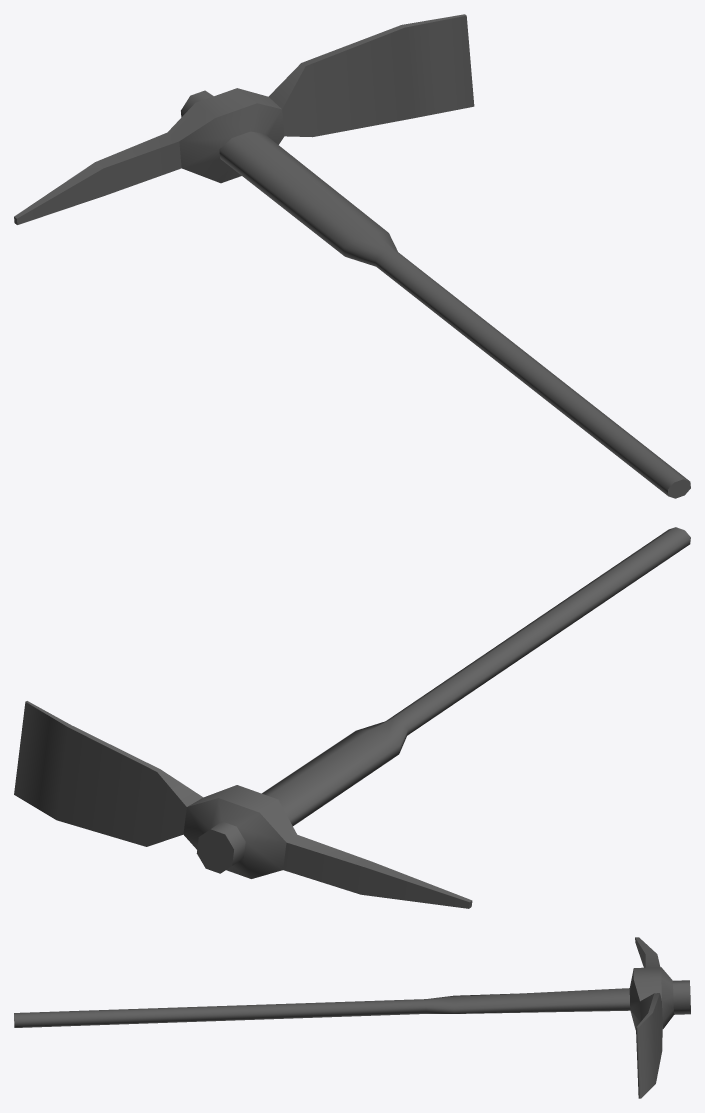
File: pickaxe01_prp.fbx
3 views of the same model, one above another, from view 1: azimuth 30°, elevation 25°; view 2: azimuth 150°, elevation 25°; view 3: azimuth 270°, elevation 25° (orthographic). The views are drawn at different scales.
Visible parts, largest first — view 1: pickaxe01_prp_1; view 2: pickaxe01_prp_1; view 3: pickaxe01_prp_1.
Boxes of the visible parts, left/top/right/bottom form: pickaxe01_prp_1: left=14, top=14, right=690, bottom=498; pickaxe01_prp_1: left=14, top=527, right=690, bottom=908; pickaxe01_prp_1: left=14, top=937, right=690, bottom=1098.
Bounding box in the file's own units: 0.463 × 0.104 × 0.8287.
